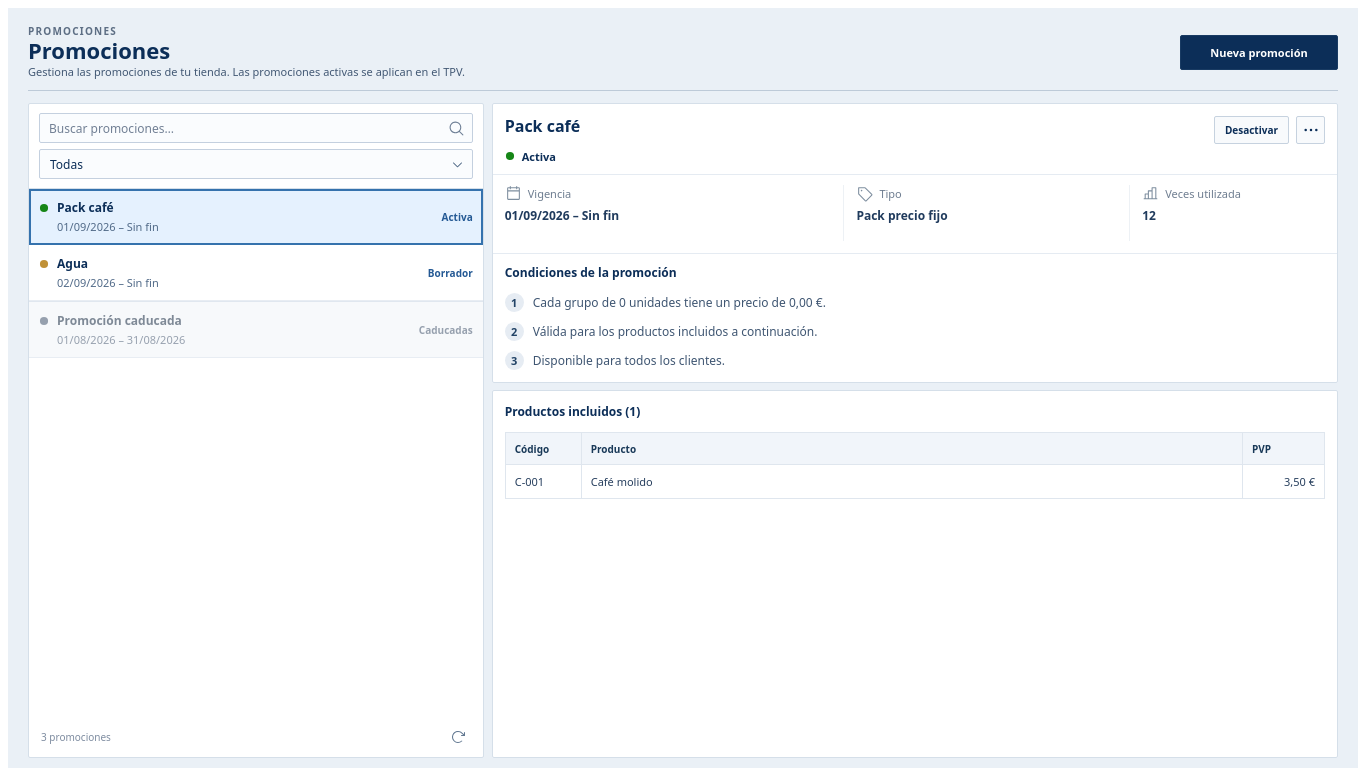
Test case: Promotion list filters and detail › checks detail actions after opening Más acciones
Check: the button "Pack café 01/09/2026 – Sin fin Activa" is shown, box [29,189,483,245]
Click the button named "Más acciones" at [1310, 130], box [1296,116,1325,144]
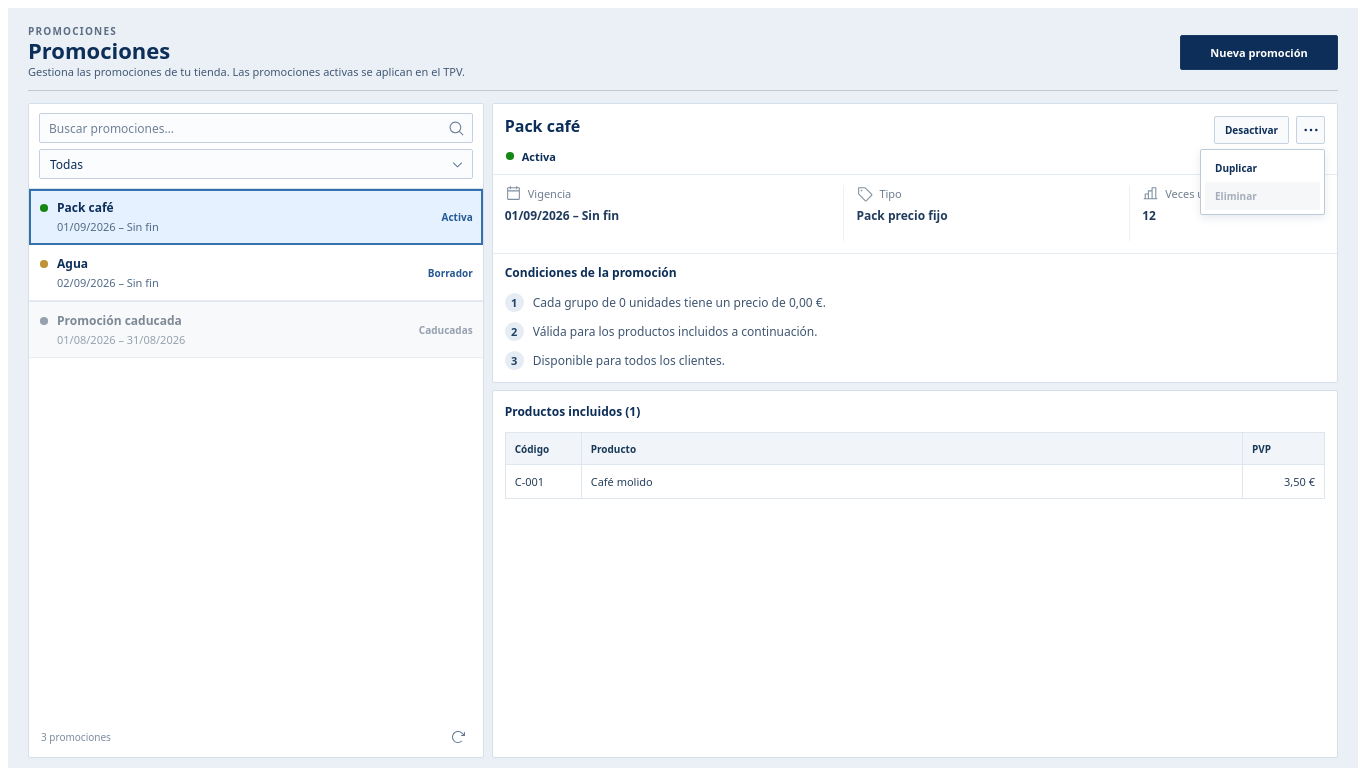
Check: the button "Duplicar" is enabled, box [1205,154,1320,182]
Check: the button "Eliminar" is disabled, box [1205,182,1320,210]
Click the button "Agua 02/09/2026 – Sin fin Borrador" at [73, 263], box [29,245,483,301]
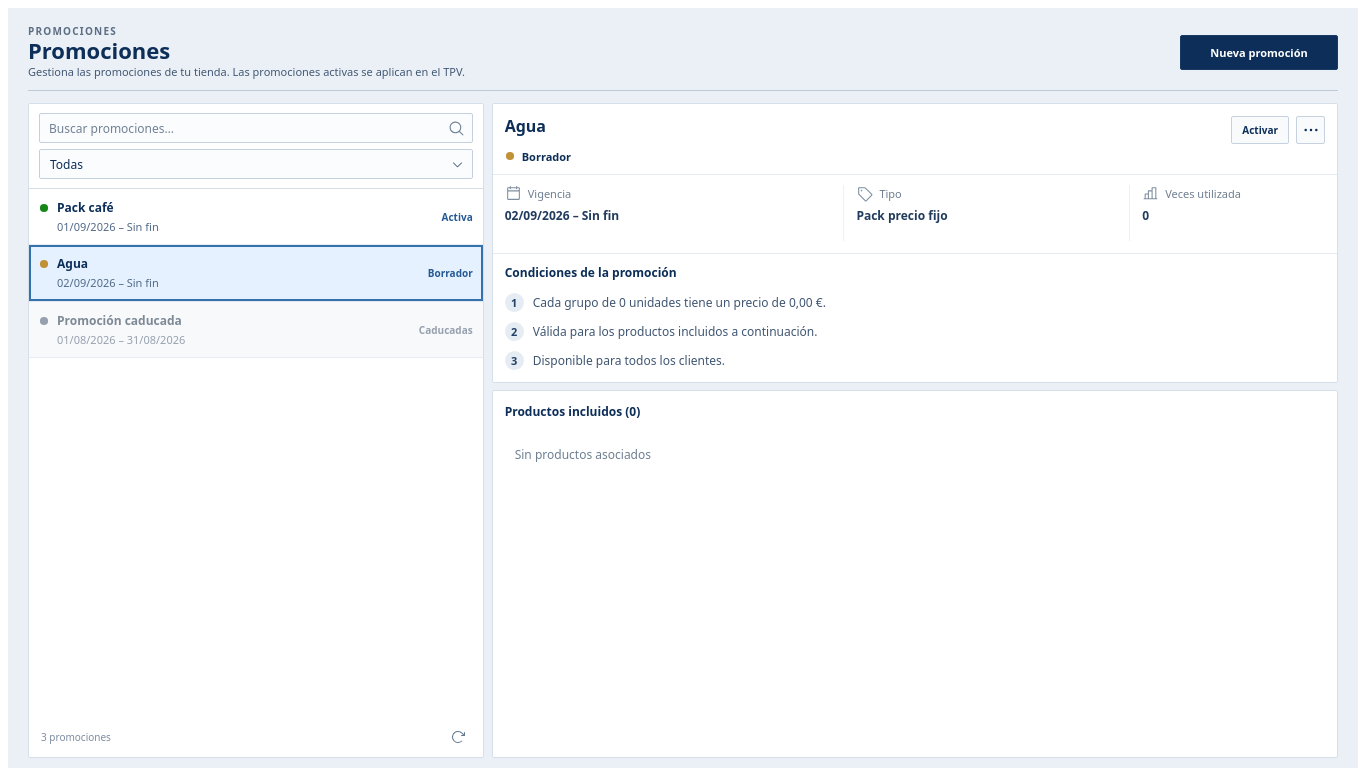
Click the button named "Más acciones" at [1310, 130], box [1296,116,1325,144]
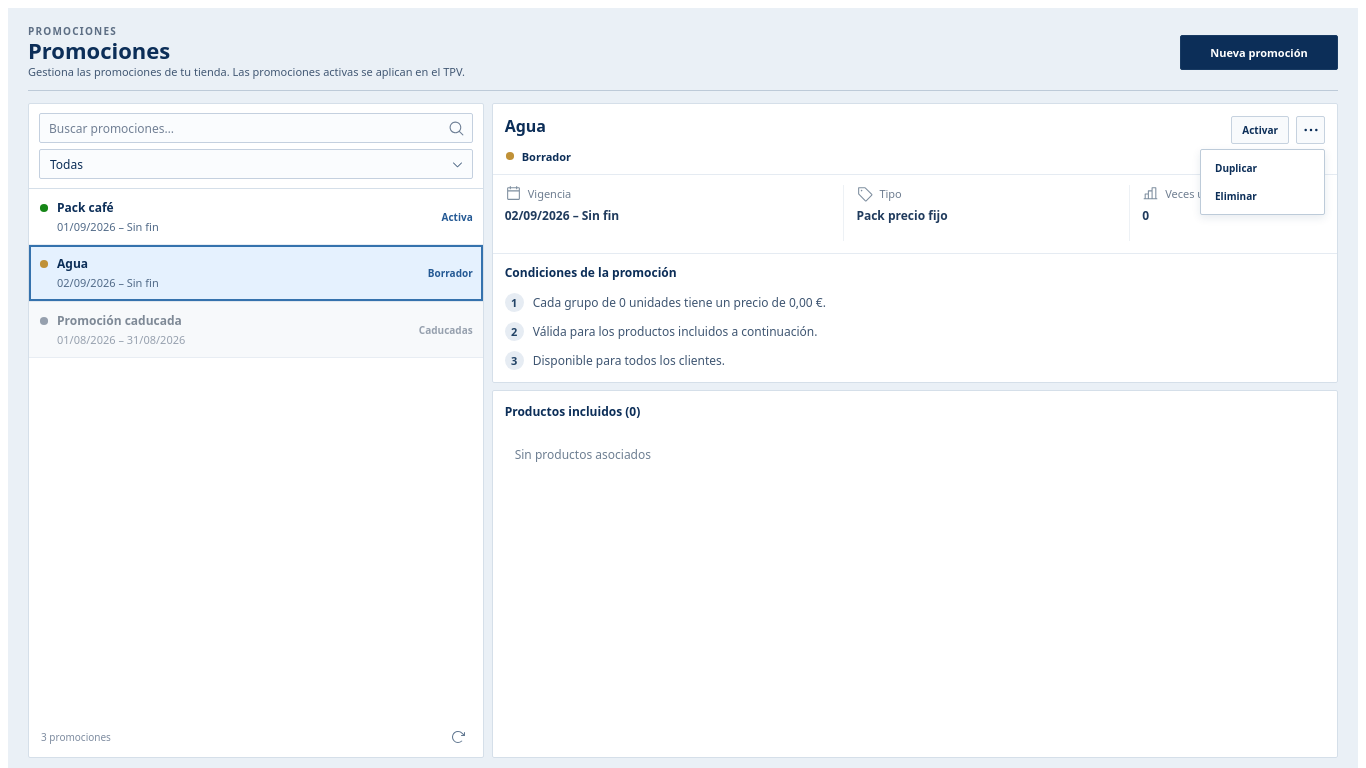
Check: the button "Eliminar" is enabled, box [1205,182,1320,210]
